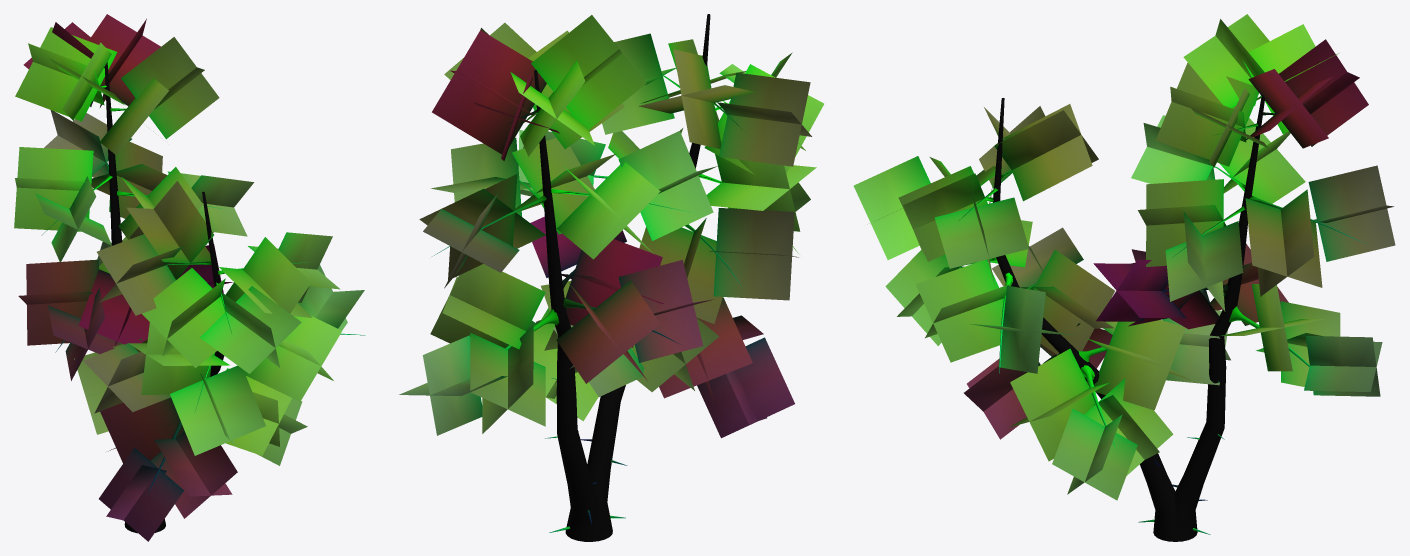
File: URP_P7_Tree_7_LOD_1.fbx
The picture shows the model from 3 angles, left to right: view 1: azimuth 30°, elevation 25°; view 2: azimuth 150°, elevation 25°; view 3: azimuth 270°, elevation 25°; orthographic projection. The views are drawn at different scales.
Visible parts, largest first — view 1: Tree_7_LOD_1; view 2: Tree_7_LOD_1; view 3: Tree_7_LOD_1.
Part boxes in pixels (bbox=[...]): Tree_7_LOD_1: bbox=[14, 14, 365, 541]; Tree_7_LOD_1: bbox=[399, 14, 823, 541]; Tree_7_LOD_1: bbox=[853, 14, 1395, 541].
Size of the model in its own units: 239 by 421 by 412.
